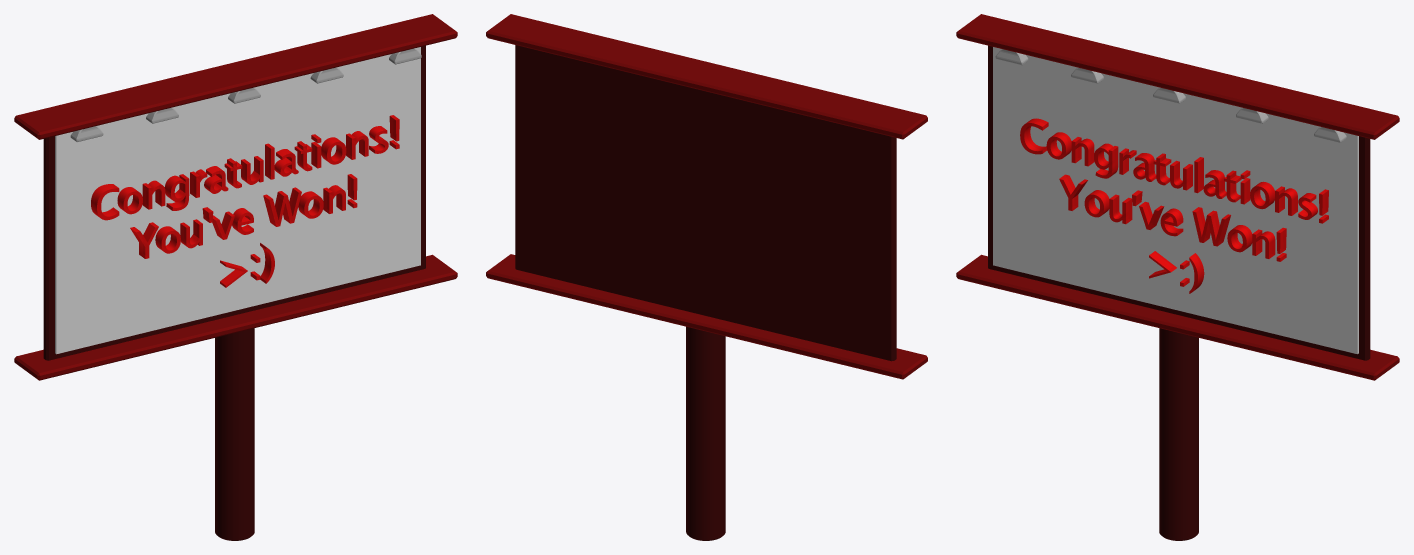
Rendered from Adware_System_Assault.fbx.
The picture shows the model from 3 angles, left to right: view 1: azimuth 30°, elevation 25°; view 2: azimuth 150°, elevation 25°; view 3: azimuth 330°, elevation 25°; orthographic projection.
Parts seen in each view (by area): view 1: pCube2, typeMesh1, pCube4, pCube3, pCylinder1, pCube1; view 2: pCube1, pCube4, pCylinder1, pCube3; view 3: pCube2, typeMesh1, pCube4, pCube3, pCylinder1, pCube1.
Part boxes in pixels (x1,y1,x2,y2): pCube2: (55,47,420,354); typeMesh1: (91,115,399,287); pCube4: (14,14,457,139); pCube3: (14,254,457,380); pCylinder1: (215,328,254,540); pCube1: (43,45,425,360); pCube1: (515,45,896,361); pCube4: (486,14,927,139); pCylinder1: (686,326,725,540); pCube3: (486,254,927,379); pCube2: (993,47,1358,354); typeMesh1: (1020,118,1328,293); pCube4: (956,14,1399,139); pCube3: (956,254,1399,380); pCylinder1: (1159,328,1198,540); pCube1: (988,45,1370,360).
Size of the model in its own units: 15.46 by 16.21 by 1.6.
